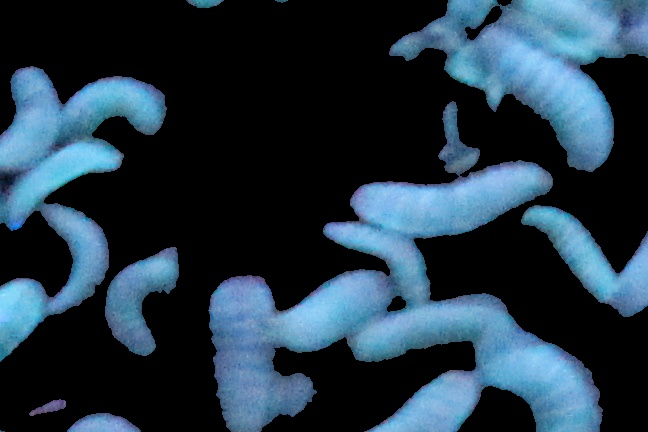larvae: (482, 30, 621, 167), (349, 156, 557, 232), (477, 334, 619, 431), (205, 274, 282, 432), (273, 262, 394, 353), (347, 293, 498, 361), (3, 141, 125, 225), (61, 61, 180, 143), (33, 203, 106, 331), (526, 199, 614, 298), (108, 244, 184, 356), (356, 368, 488, 432), (318, 228, 433, 299), (1, 58, 60, 160), (1, 278, 47, 364)
